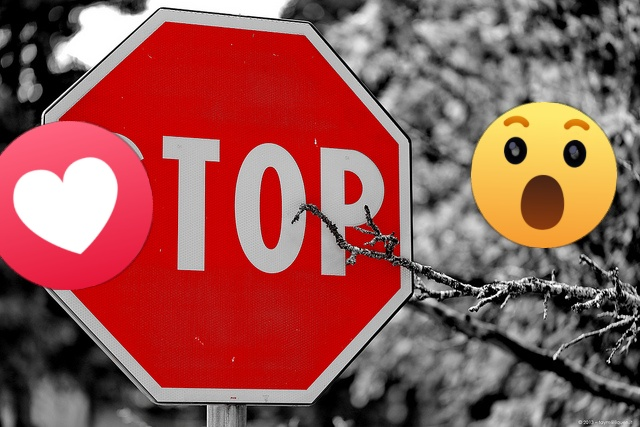love: (0, 121, 153, 290)
wow: (471, 102, 617, 248)
